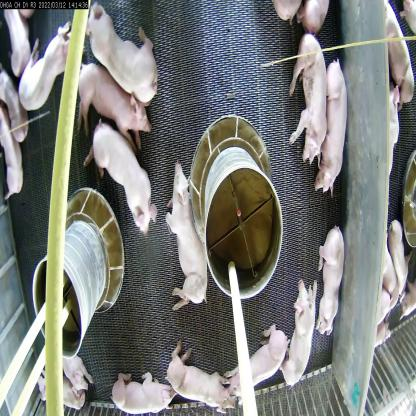Pig: (83, 0, 158, 103), (161, 167, 212, 318), (89, 112, 150, 236), (19, 27, 87, 126), (83, 63, 156, 152), (288, 37, 330, 169), (168, 347, 240, 415), (0, 105, 28, 245), (232, 318, 282, 387), (290, 281, 319, 394), (324, 73, 349, 201), (319, 233, 345, 336), (0, 64, 34, 142), (114, 373, 171, 415), (35, 376, 83, 415), (52, 344, 87, 393)
